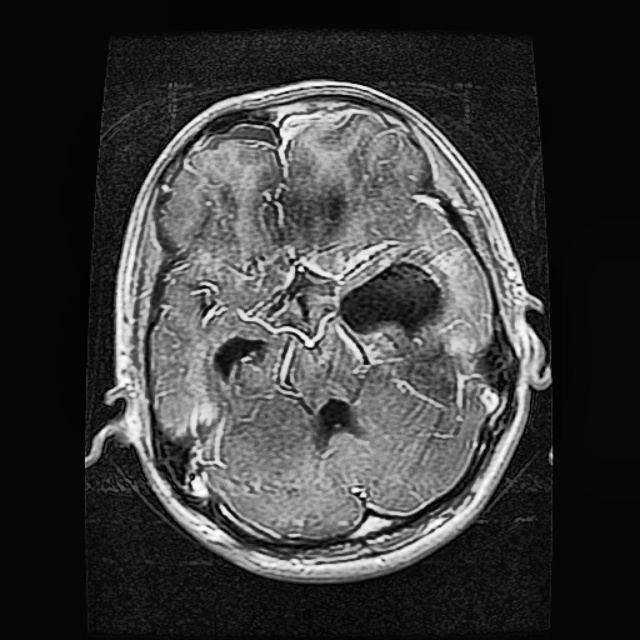Glioma: (339, 255, 444, 334)
